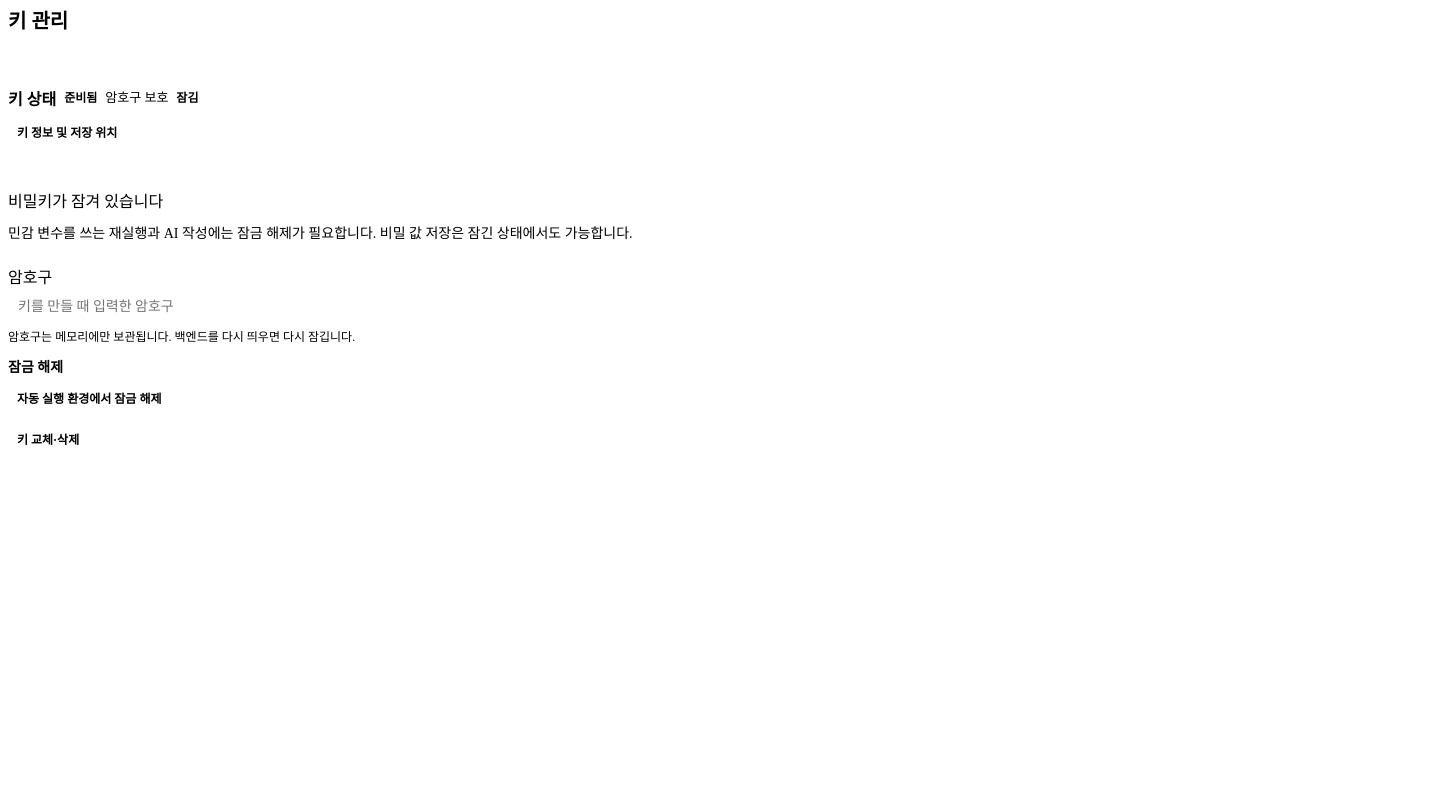
Test: KeyManagement — 잠금 해제 (FR-089e-3) › 틀린 암호구는 그 사유를 그대로 보여준다 — 복호화 실패와 구분된다
The image size is (1440, 810).
In the password field labelled "암호구": coordinates (720, 306) [8,296,1432,317], type "wrong-passphrase"
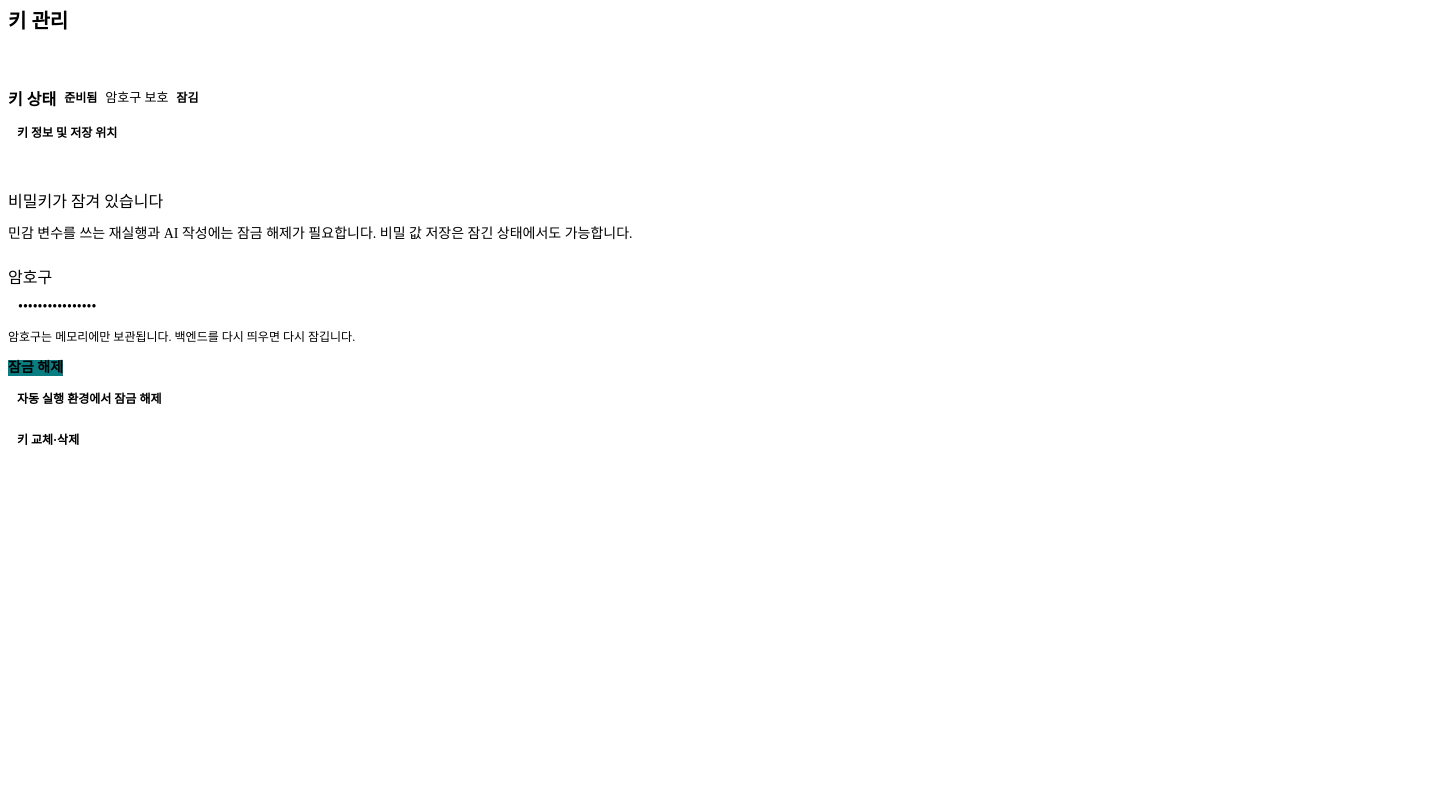
Click the button "잠금 해제": coordinates (36, 368) [8,360,63,376]
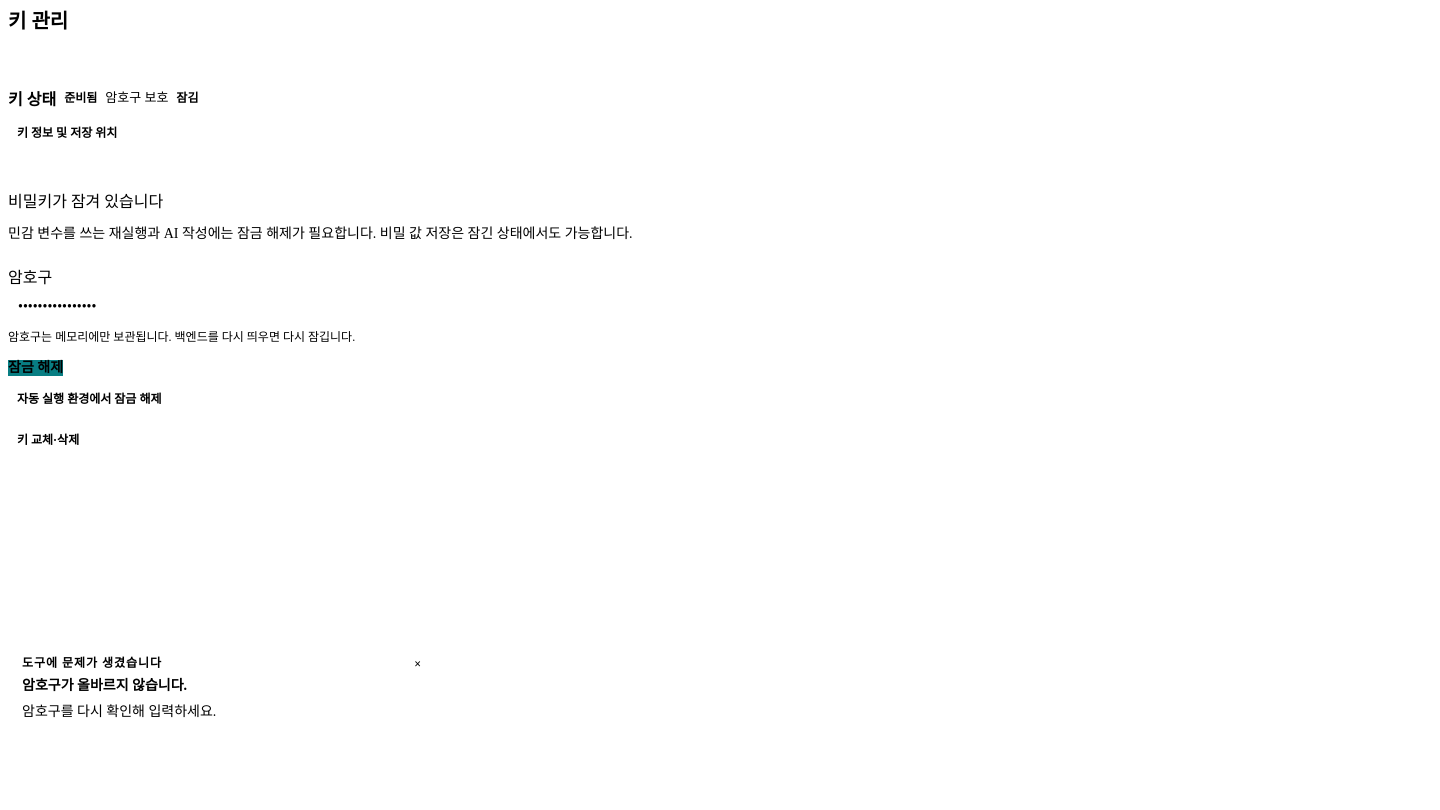
Expected: the text "비밀키가 잠겨 있습니다" is shown, [8,193,163,210]
Expected: the text "암호구가 올바르지 않습니다." is shown, [22,678,187,693]
